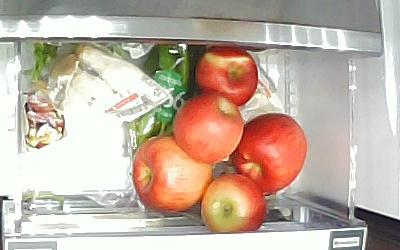apple: (132, 135, 212, 215), (237, 113, 307, 195), (172, 92, 243, 164), (202, 171, 268, 233), (195, 46, 260, 104)
